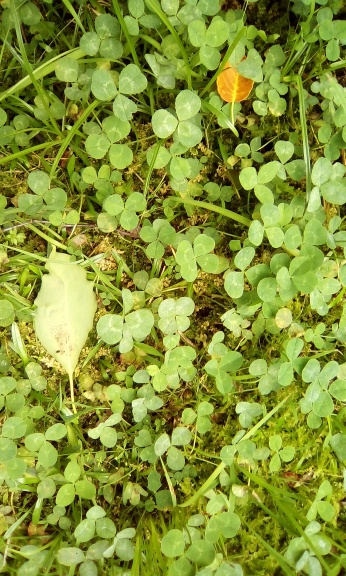4leaf: (175, 234, 219, 282), (158, 297, 196, 335)
